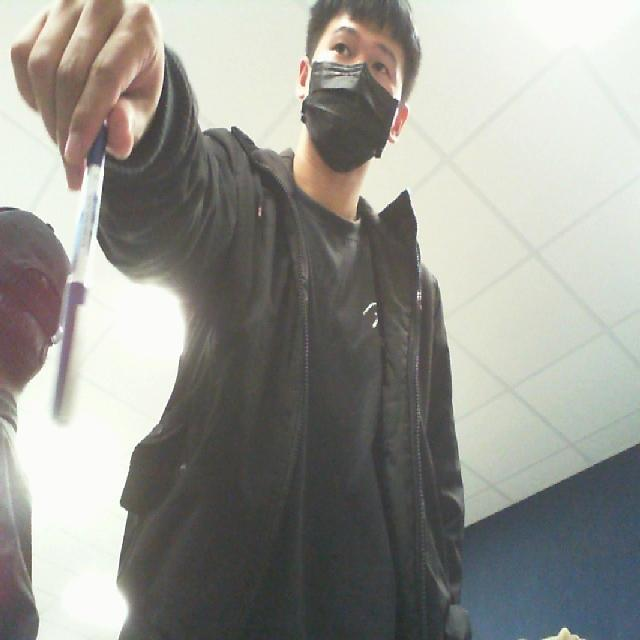Pen: (40, 97, 112, 431)
